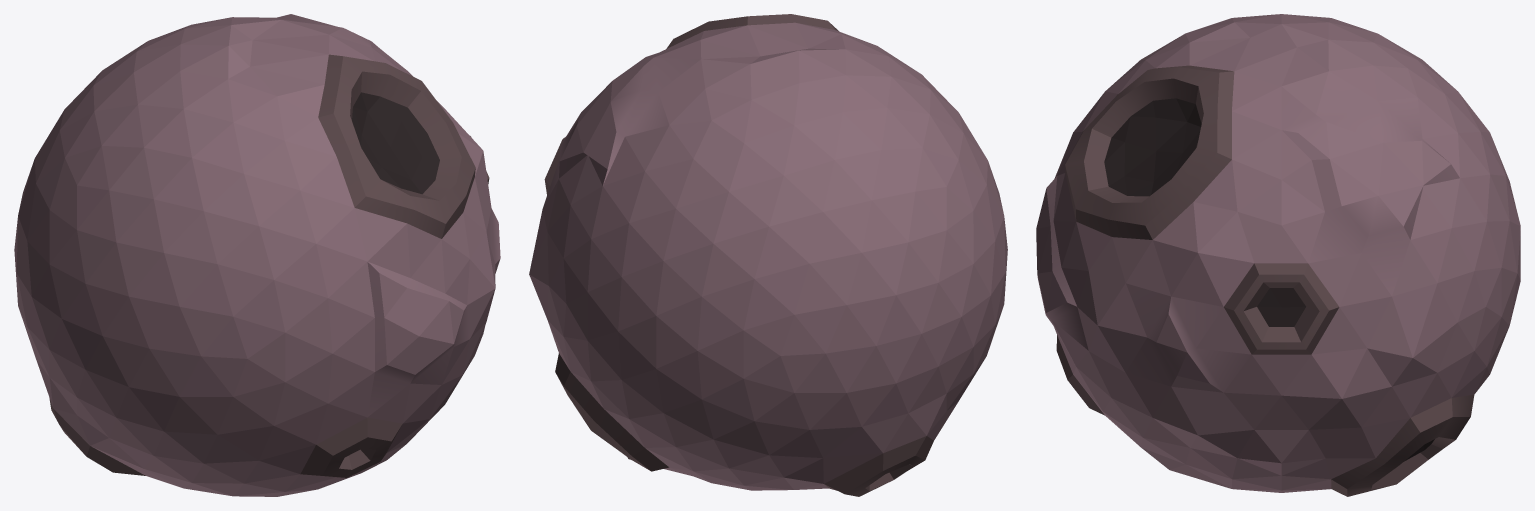
Rendered from Mdl_Moon3.fbx.
The picture shows the model from 3 angles, left to right: view 1: azimuth 30°, elevation 25°; view 2: azimuth 150°, elevation 25°; view 3: azimuth 270°, elevation 25°; orthographic projection. The views are drawn at different scales.
Parts seen in each view (by area): view 1: moon_1; view 2: moon_1; view 3: moon_1.
Part boxes in pixels (x1,y1,x2,y2): moon_1: [14, 14, 500, 496]; moon_1: [529, 14, 1007, 496]; moon_1: [1036, 14, 1520, 496].
Size of the model in its own units: 2.04 by 1.99 by 2.02.
